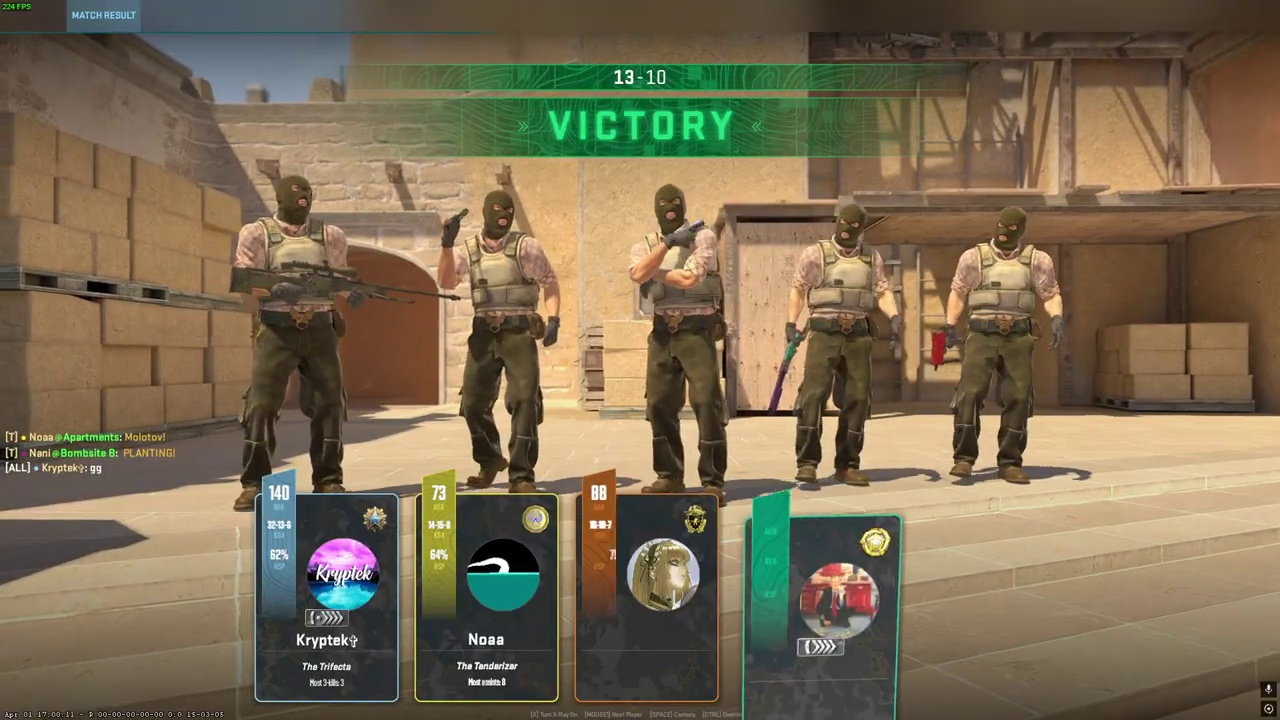Terrorist: (232, 174, 355, 505), (445, 188, 554, 493), (633, 183, 733, 498), (944, 206, 1050, 484), (789, 203, 887, 488)
